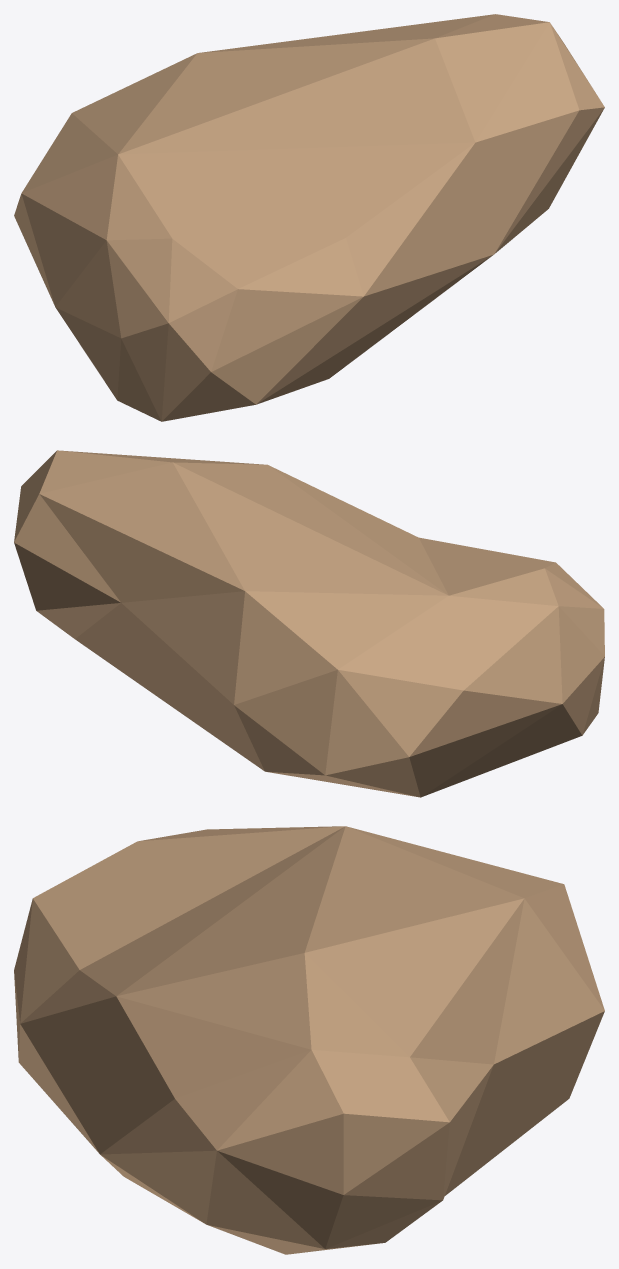
Rendered from Stone_2.fbx.
3 renders of one model, top to bottom at view 1: azimuth 30°, elevation 25°; view 2: azimuth 150°, elevation 25°; view 3: azimuth 270°, elevation 25°, orthographic. The views are drawn at different scales.
Parts seen in each view (by area): view 1: Stone_2; view 2: Stone_2; view 3: Stone_2.
Part boxes in pixels (<box>): Stone_2: <box>14,14,604,421</box>; Stone_2: <box>14,450,604,797</box>; Stone_2: <box>14,826,604,1254</box>.
Size of the model in its own units: 450 by 215 by 318.
